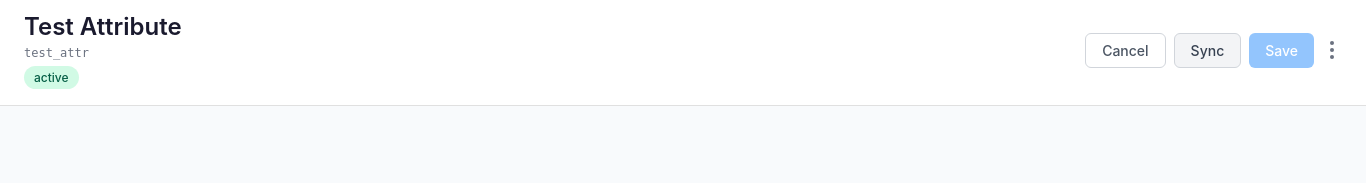
AttributeHeader › Kebab Menu › opens kebab menu when clicked
Click the button with test id "kebab-button" at (1332, 50), box [1322,33,1342,67]
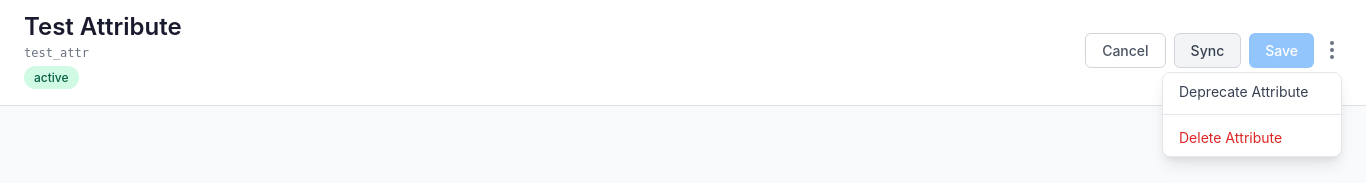
expect the menu with test id "kebab-menu" is shown: met, box [1162,72,1342,157]
